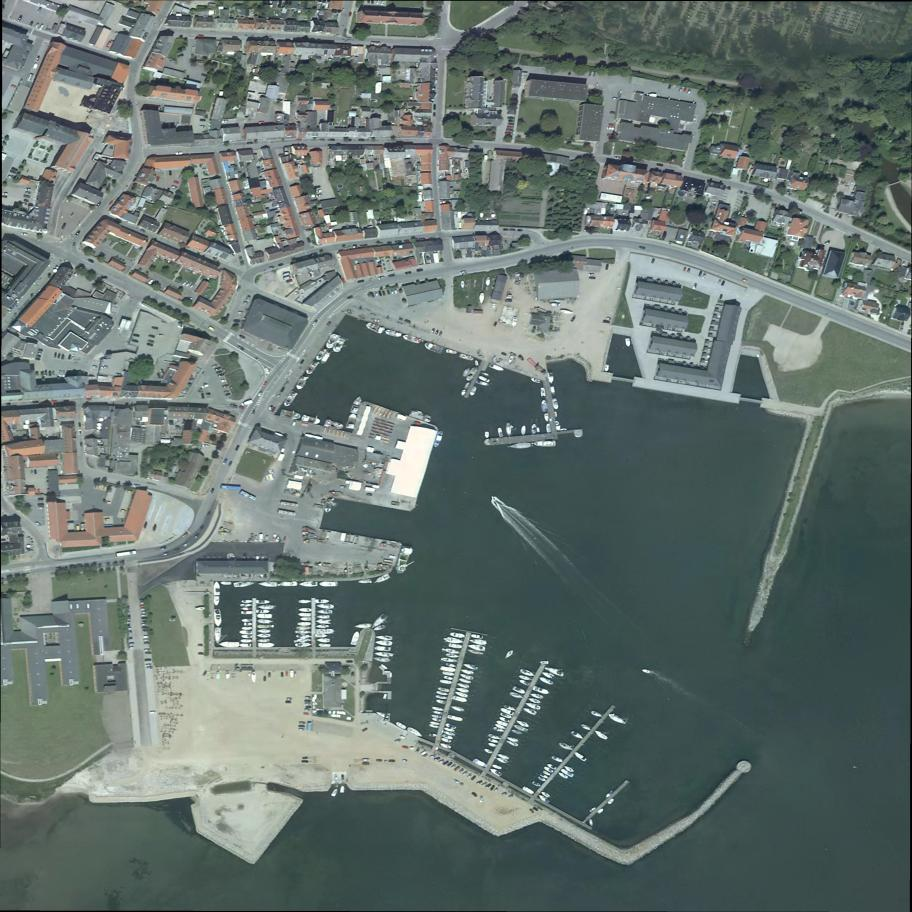large-vehicle: (239, 489, 257, 501), (277, 508, 296, 517), (279, 500, 298, 508), (117, 550, 137, 557), (221, 484, 241, 490), (240, 398, 253, 407)
ship: (393, 544, 413, 576), (370, 612, 389, 633), (607, 711, 630, 727), (324, 331, 342, 351), (422, 340, 446, 355), (350, 394, 365, 416), (282, 389, 298, 409), (364, 321, 386, 335), (543, 665, 566, 678), (322, 418, 345, 431), (301, 413, 323, 426), (331, 336, 346, 355), (279, 409, 302, 421), (305, 359, 320, 377), (294, 374, 309, 392), (406, 725, 425, 739), (465, 365, 479, 383), (372, 572, 391, 585), (233, 578, 255, 589), (532, 685, 552, 697), (442, 636, 465, 646), (537, 675, 556, 687), (433, 429, 445, 448), (314, 347, 328, 363), (593, 729, 610, 742), (558, 739, 575, 752), (345, 413, 358, 430), (402, 333, 422, 344), (508, 442, 532, 451), (319, 350, 332, 366), (472, 757, 489, 769), (384, 328, 402, 339), (488, 362, 506, 373), (573, 750, 588, 763), (569, 729, 585, 741), (519, 667, 536, 678), (458, 352, 475, 363), (350, 630, 361, 647), (525, 701, 543, 711), (394, 719, 409, 731), (213, 609, 223, 627), (324, 498, 335, 514), (467, 643, 486, 652), (522, 707, 539, 717), (503, 648, 515, 662), (489, 767, 504, 778), (537, 793, 552, 804), (512, 724, 530, 733), (462, 662, 480, 671), (534, 440, 557, 447), (540, 670, 556, 680), (441, 647, 461, 655), (439, 656, 459, 664), (508, 691, 525, 700), (526, 696, 543, 705), (498, 707, 515, 716), (452, 695, 469, 704), (469, 638, 488, 646), (589, 709, 604, 719), (549, 754, 564, 764), (560, 768, 575, 778), (374, 651, 395, 658), (517, 673, 533, 682), (450, 704, 466, 713), (214, 626, 222, 644), (522, 786, 536, 796), (353, 623, 373, 630), (218, 641, 241, 647), (459, 673, 476, 681), (449, 631, 466, 639), (501, 703, 516, 712), (516, 719, 531, 728), (504, 739, 519, 748), (375, 634, 394, 641), (374, 646, 393, 653), (373, 656, 392, 663), (257, 581, 279, 587), (563, 764, 576, 774), (542, 765, 555, 775), (461, 366, 471, 379), (440, 665, 456, 673), (447, 714, 463, 722), (530, 692, 544, 701), (512, 686, 526, 695), (460, 668, 475, 676), (456, 682, 471, 690), (455, 686, 470, 694), (454, 691, 469, 699), (530, 779, 542, 789), (540, 790, 552, 800), (300, 581, 320, 587), (495, 719, 508, 728), (557, 771, 570, 780), (540, 399, 549, 412), (466, 649, 485, 655), (319, 581, 338, 587), (315, 628, 334, 634), (316, 603, 335, 609), (439, 742, 453, 750), (506, 735, 520, 743), (487, 733, 501, 741), (497, 753, 511, 761), (213, 581, 221, 595), (580, 723, 592, 732), (469, 385, 478, 397), (280, 581, 298, 587), (375, 640, 393, 646), (316, 609, 334, 615), (457, 678, 472, 685), (448, 642, 463, 649), (445, 652, 460, 659), (518, 679, 531, 687), (492, 726, 505, 734), (445, 722, 458, 730), (478, 375, 491, 383), (257, 613, 274, 619), (256, 604, 276, 609), (546, 762, 557, 771), (435, 690, 449, 697), (434, 694, 448, 701), (495, 757, 509, 764), (506, 422, 513, 436), (476, 380, 490, 387), (491, 763, 503, 771), (496, 426, 504, 438), (552, 398, 560, 410), (547, 372, 555, 384), (293, 642, 312, 647), (256, 619, 275, 624), (499, 712, 512, 719), (511, 729, 524, 736), (437, 686, 450, 693), (434, 698, 447, 705), (445, 348, 458, 355), (438, 679, 453, 685), (605, 789, 614, 799), (294, 634, 312, 639), (257, 624, 275, 629), (536, 775, 547, 783), (554, 420, 562, 431), (624, 337, 632, 348), (255, 599, 272, 604), (498, 716, 510, 723), (441, 671, 455, 677), (478, 292, 485, 304), (607, 797, 616, 806), (589, 805, 598, 814), (331, 788, 339, 798), (542, 769, 552, 777), (539, 772, 549, 780), (549, 385, 557, 395), (539, 387, 547, 397), (255, 609, 271, 614), (443, 731, 456, 737), (431, 710, 444, 716), (530, 377, 541, 384), (257, 643, 276, 647), (358, 579, 373, 584), (315, 624, 330, 629), (316, 638, 331, 643), (317, 642, 332, 647), (442, 734, 454, 740), (494, 724, 506, 730), (487, 738, 499, 744), (444, 727, 456, 733), (445, 662, 457, 668), (428, 723, 440, 729), (430, 717, 442, 723), (429, 720, 441, 726), (251, 671, 257, 683), (596, 807, 605, 815), (512, 316, 518, 328), (293, 639, 311, 643), (431, 706, 445, 711), (641, 667, 651, 674), (316, 614, 330, 619), (298, 612, 312, 617), (213, 596, 220, 606), (239, 630, 253, 635), (257, 638, 271, 643), (295, 630, 312, 634), (483, 748, 494, 754), (441, 738, 452, 744), (443, 675, 454, 681), (487, 742, 498, 748), (532, 423, 538, 434), (195, 606, 206, 612), (315, 633, 328, 638), (471, 634, 484, 639), (240, 610, 253, 615), (296, 622, 312, 626), (296, 626, 312, 630), (459, 280, 466, 289), (460, 388, 467, 397), (521, 425, 527, 435), (546, 423, 552, 433), (485, 276, 491, 286), (315, 599, 330, 603), (299, 599, 311, 604), (239, 607, 253, 611), (257, 629, 271, 633), (257, 634, 271, 638), (431, 714, 442, 719), (544, 413, 550, 422), (299, 608, 312, 612), (239, 643, 252, 647), (240, 639, 253, 643), (539, 660, 549, 665), (243, 622, 253, 627), (226, 670, 231, 680), (604, 364, 610, 372), (508, 355, 514, 363), (220, 581, 232, 585), (241, 599, 253, 603), (241, 626, 253, 630), (241, 635, 253, 639), (300, 617, 311, 621), (484, 431, 490, 438), (239, 604, 252, 607), (474, 360, 480, 366), (241, 619, 253, 622), (216, 670, 220, 679), (340, 786, 345, 793), (589, 819, 594, 826), (290, 670, 294, 678)
small-vehicle: (517, 353, 525, 362), (570, 315, 578, 323), (201, 383, 210, 390), (741, 277, 749, 284), (60, 222, 67, 230), (208, 326, 216, 333), (275, 391, 282, 399), (182, 531, 189, 539), (182, 541, 190, 548), (377, 275, 386, 281), (158, 545, 167, 551), (462, 770, 469, 777), (74, 230, 81, 237), (35, 521, 42, 528), (193, 533, 200, 540), (105, 41, 111, 49), (701, 272, 707, 280), (820, 203, 826, 211), (306, 236, 312, 244), (449, 763, 457, 769), (312, 318, 318, 326), (257, 390, 263, 398), (108, 240, 114, 248), (182, 279, 188, 287), (222, 458, 228, 466), (143, 521, 149, 529), (20, 232, 29, 237), (17, 15, 23, 22), (95, 201, 101, 208), (823, 240, 830, 246), (438, 173, 445, 179), (466, 772, 472, 779), (453, 779, 460, 785), (442, 760, 449, 766), (476, 780, 483, 786), (485, 783, 492, 789), (493, 786, 499, 793), (508, 793, 515, 799), (471, 792, 478, 798), (492, 321, 498, 328), (326, 321, 332, 328), (212, 362, 218, 369), (101, 238, 107, 245), (87, 258, 94, 264), (185, 280, 191, 287), (190, 282, 196, 289), (236, 285, 242, 292), (148, 279, 154, 286), (234, 444, 240, 451), (228, 460, 234, 467), (209, 487, 215, 494), (37, 6, 42, 14), (33, 62, 38, 70), (176, 53, 184, 58), (39, 23, 44, 31), (155, 175, 160, 183), (404, 270, 412, 275), (435, 328, 440, 336), (405, 319, 413, 324), (259, 534, 264, 542), (301, 759, 309, 764), (238, 334, 246, 339), (146, 343, 154, 348), (152, 523, 157, 531), (163, 551, 171, 556), (132, 484, 141, 488), (533, 806, 539, 812), (34, 22, 40, 28), (638, 246, 647, 250), (422, 753, 428, 759), (447, 761, 453, 767), (454, 765, 460, 771), (470, 775, 476, 781), (529, 808, 535, 814), (362, 727, 368, 733), (238, 345, 244, 351), (279, 387, 285, 393), (174, 547, 180, 553), (29, 20, 34, 27), (173, 180, 180, 185), (11, 166, 18, 171), (9, 170, 16, 175), (393, 288, 398, 295), (719, 293, 724, 300), (899, 326, 904, 333), (370, 291, 375, 298), (268, 265, 275, 270), (341, 277, 346, 284), (438, 759, 445, 764), (415, 747, 420, 754), (490, 784, 495, 791), (439, 330, 444, 337), (300, 358, 305, 365), (276, 534, 281, 541), (302, 755, 309, 760), (606, 133, 613, 138), (156, 372, 161, 379), (215, 366, 222, 371), (263, 381, 268, 388), (252, 408, 257, 415), (224, 392, 231, 397), (139, 228, 146, 233), (148, 334, 155, 339), (132, 339, 139, 344), (271, 406, 276, 413), (678, 86, 683, 93), (23, 195, 31, 199), (459, 270, 467, 274), (416, 268, 424, 272), (388, 273, 396, 277), (607, 127, 615, 131), (357, 279, 365, 283), (606, 316, 614, 320), (603, 320, 611, 324), (401, 745, 409, 749), (429, 754, 437, 758), (480, 795, 484, 803), (62, 370, 66, 378), (202, 444, 210, 448), (151, 326, 159, 330), (146, 666, 154, 670), (149, 711, 157, 715), (11, 84, 17, 89), (374, 291, 379, 297), (721, 280, 726, 286), (838, 213, 843, 219), (306, 227, 312, 232), (481, 782, 487, 787), (460, 768, 465, 774), (395, 738, 401, 743), (510, 352, 516, 357), (431, 328, 436, 334), (199, 524, 204, 530), (109, 200, 114, 206), (99, 366, 109, 369), (222, 383, 228, 388), (269, 404, 274, 410), (509, 228, 516, 232), (605, 264, 609, 271), (902, 260, 906, 267), (382, 290, 386, 297), (378, 290, 382, 297), (316, 194, 323, 198), (316, 189, 323, 193), (347, 295, 354, 299), (434, 757, 441, 761), (402, 759, 409, 763), (341, 774, 345, 781), (207, 511, 211, 518), (48, 370, 52, 377), (61, 353, 65, 360), (220, 379, 227, 383), (233, 319, 240, 323), (177, 325, 184, 329), (157, 333, 164, 337), (203, 670, 207, 677), (280, 671, 284, 678), (124, 621, 131, 625), (147, 340, 156, 343), (36, 55, 40, 61), (198, 125, 206, 128), (7, 175, 13, 179), (505, 299, 513, 302), (656, 163, 664, 166), (390, 289, 394, 295), (651, 257, 655, 263), (589, 276, 597, 279), (698, 270, 702, 276), (693, 283, 697, 289), (386, 290, 390, 296), (506, 129, 514, 132), (296, 138, 302, 142), (278, 263, 284, 267), (334, 775, 338, 781), (362, 762, 370, 765), (389, 759, 395, 763), (502, 792, 508, 796), (501, 352, 507, 356), (254, 535, 258, 541), (304, 712, 310, 716), (298, 725, 306, 728), (614, 157, 622, 160), (92, 365, 98, 369), (70, 354, 74, 360), (33, 469, 37, 475), (216, 370, 222, 374), (218, 373, 224, 377), (53, 352, 57, 358), (100, 276, 108, 279), (132, 334, 140, 337), (285, 381, 289, 387), (124, 627, 132, 630), (197, 652, 205, 655), (142, 629, 150, 632), (668, 83, 672, 89), (683, 87, 687, 93), (610, 111, 616, 115), (50, 400, 58, 403), (78, 422, 82, 428), (78, 429, 82, 435), (37, 503, 45, 506), (140, 605, 148, 608), (141, 614, 149, 617), (141, 620, 149, 623), (141, 623, 149, 626), (199, 119, 206, 122), (221, 120, 228, 123), (176, 121, 179, 128), (25, 188, 32, 191), (23, 199, 30, 202), (588, 273, 595, 276), (314, 186, 321, 189), (505, 132, 512, 135), (433, 104, 436, 111), (328, 138, 335, 141), (395, 240, 402, 243), (418, 238, 425, 241), (375, 759, 382, 762), (346, 660, 353, 663), (45, 370, 48, 377), (32, 401, 39, 404), (608, 123, 615, 126), (115, 373, 122, 376), (230, 405, 237, 408), (57, 352, 60, 359), (237, 311, 244, 314), (37, 349, 44, 352), (35, 352, 42, 355), (128, 642, 135, 645), (128, 646, 135, 649), (349, 11, 352, 18), (38, 507, 45, 510), (142, 626, 149, 629), (139, 598, 146, 601), (142, 617, 149, 620), (718, 279, 722, 284), (79, 442, 83, 447), (259, 121, 265, 124), (247, 142, 253, 145), (169, 170, 172, 176), (171, 186, 177, 189), (2, 192, 8, 195), (357, 139, 366, 141), (386, 241, 392, 244), (262, 554, 265, 560), (299, 729, 305, 732), (59, 371, 62, 377), (52, 371, 55, 377), (68, 354, 71, 360), (38, 497, 44, 500), (201, 393, 204, 399), (73, 242, 76, 248), (263, 676, 266, 682), (144, 641, 150, 644), (145, 652, 151, 655), (197, 644, 203, 647), (268, 672, 271, 678), (285, 671, 288, 677), (294, 671, 297, 677), (613, 97, 619, 100), (688, 88, 691, 94), (86, 398, 92, 401), (175, 153, 183, 155), (362, 759, 370, 761), (125, 637, 133, 639), (145, 664, 153, 666), (683, 266, 686, 271), (688, 268, 691, 273), (433, 112, 436, 117), (306, 696, 311, 699), (30, 470, 33, 475), (20, 203, 27, 205), (507, 117, 514, 119), (507, 126, 514, 128), (305, 703, 312, 705), (304, 709, 311, 711), (299, 722, 306, 724), (242, 302, 249, 304), (143, 639, 150, 641), (144, 649, 151, 651), (145, 659, 152, 661), (143, 636, 150, 638), (140, 602, 147, 604), (141, 608, 148, 610), (141, 611, 148, 613), (25, 192, 31, 194), (518, 229, 524, 231), (503, 228, 509, 230), (508, 120, 514, 122), (508, 123, 514, 125), (474, 146, 480, 148), (319, 139, 325, 141), (286, 698, 292, 700), (286, 701, 292, 703), (305, 700, 311, 702), (34, 358, 40, 360), (35, 355, 41, 357), (405, 240, 410, 242), (306, 706, 311, 708), (38, 489, 40, 494)
storage-tank: (763, 178, 769, 183), (803, 171, 809, 176), (96, 426, 102, 430), (99, 418, 105, 421), (97, 423, 102, 426)
